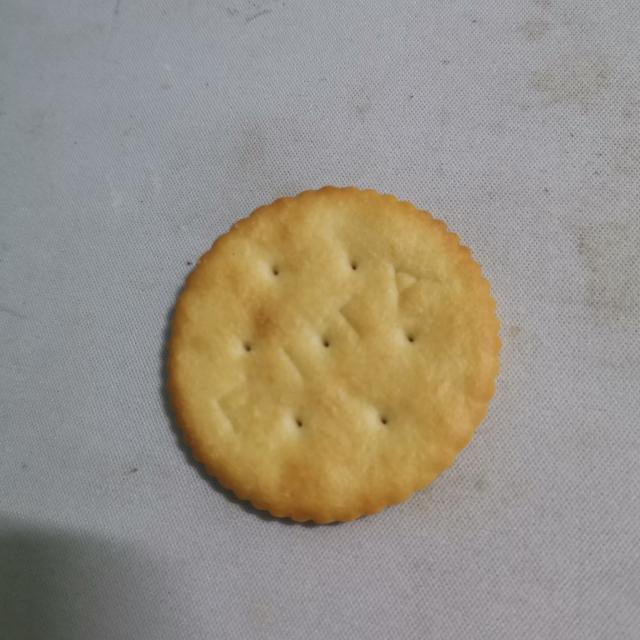Intact: (154, 182, 512, 548)
